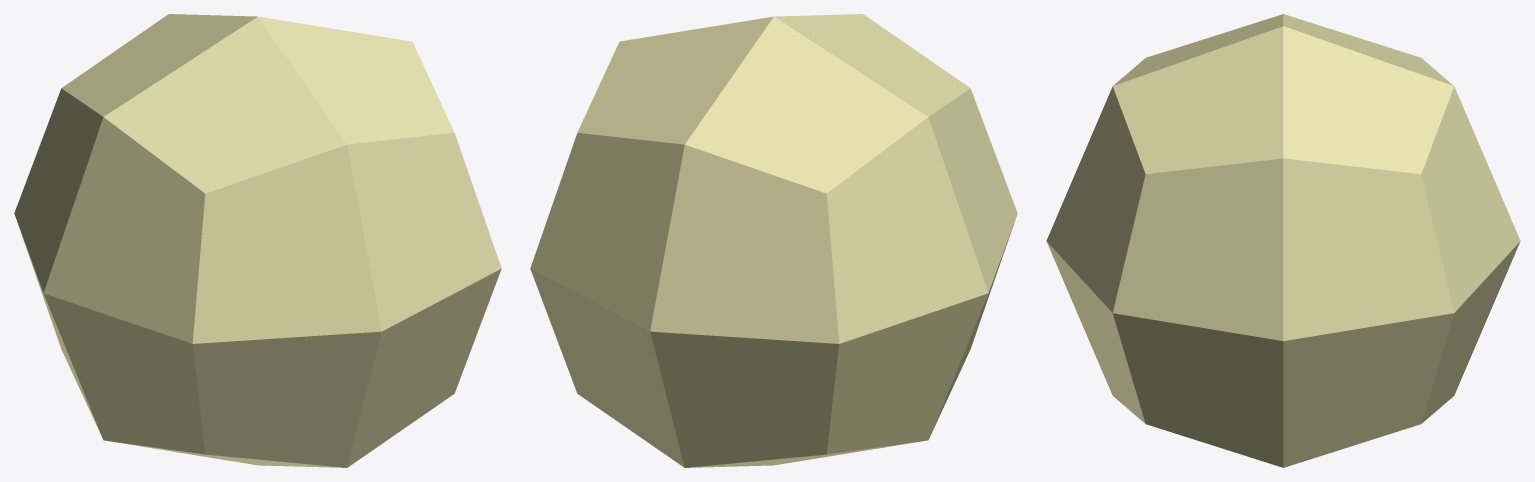
File: GolfBall.glb
The picture shows the model from 3 angles, left to right: view 1: azimuth 30°, elevation 25°; view 2: azimuth 150°, elevation 25°; view 3: azimuth 270°, elevation 25°; orthographic projection. The views are drawn at different scales.
Visible parts, largest first — view 1: Cube; view 2: Cube; view 3: Cube.
Boxes of the visible parts, x1,y1,x2,y2 form: Cube: [14, 14, 501, 467]; Cube: [530, 14, 1017, 467]; Cube: [1046, 14, 1520, 467].
Size of the model in its own units: 0.2725 by 0.2725 by 0.2725.
